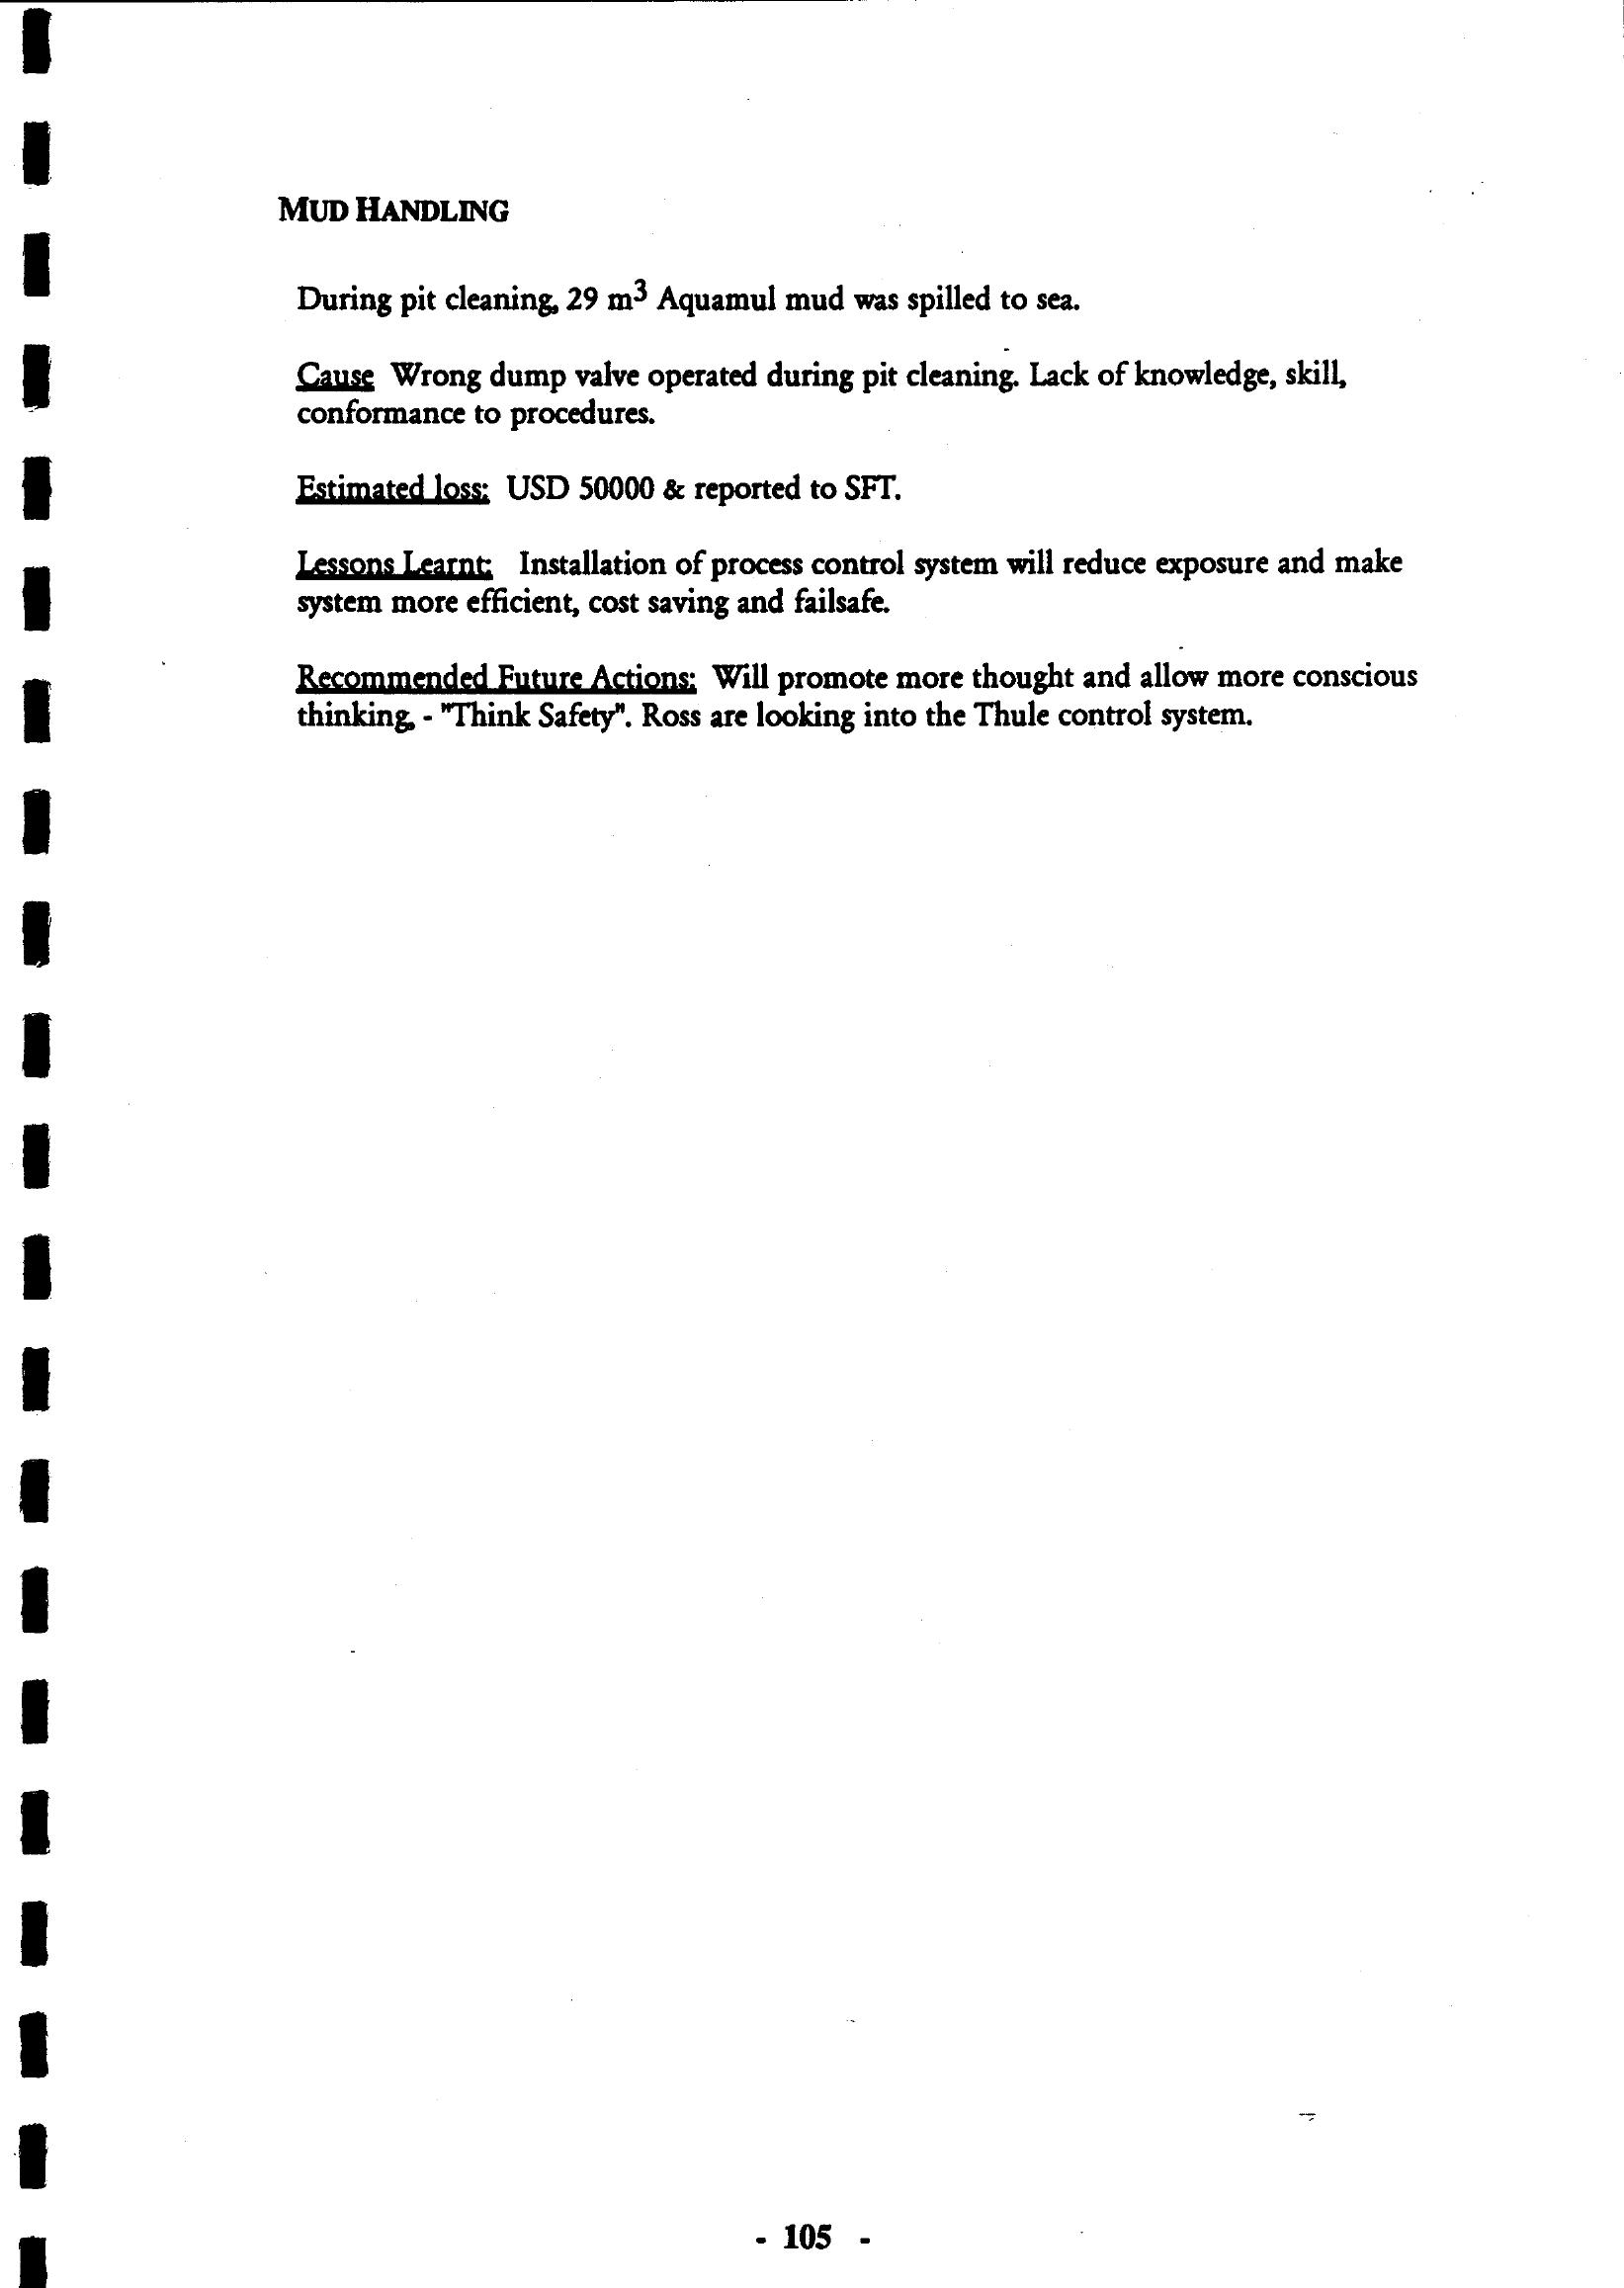text: (243, 149, 1464, 782)
